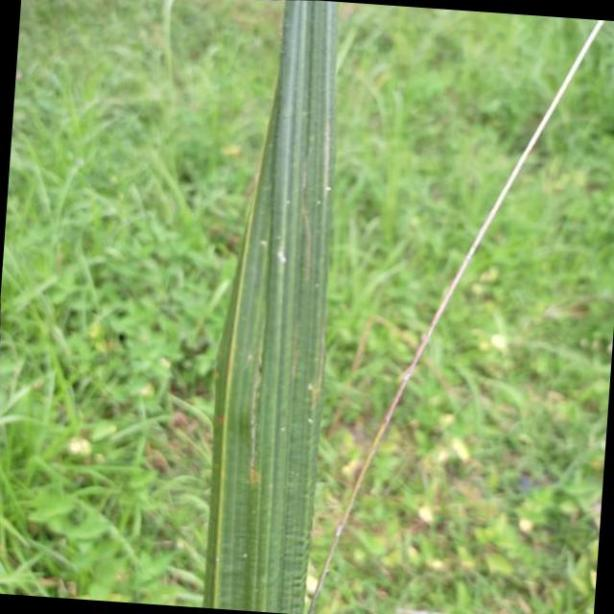Boron: (205, 0, 331, 614)
